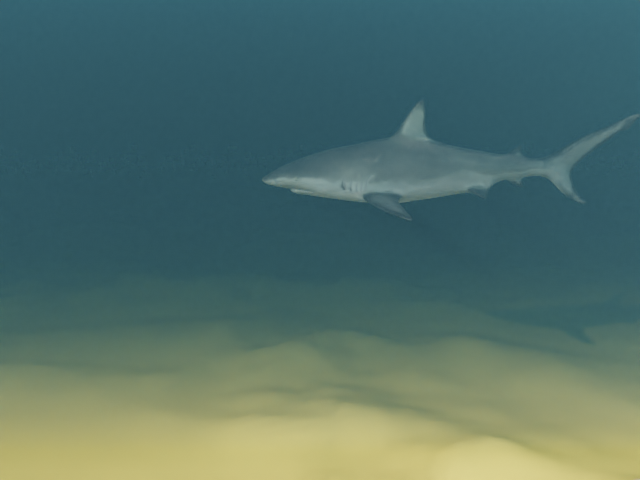Carribean Shark.001: (261, 99, 640, 220)
